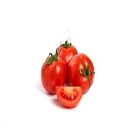tomato: (69, 53, 94, 91), (40, 56, 66, 92), (54, 86, 82, 107), (57, 44, 77, 70)
